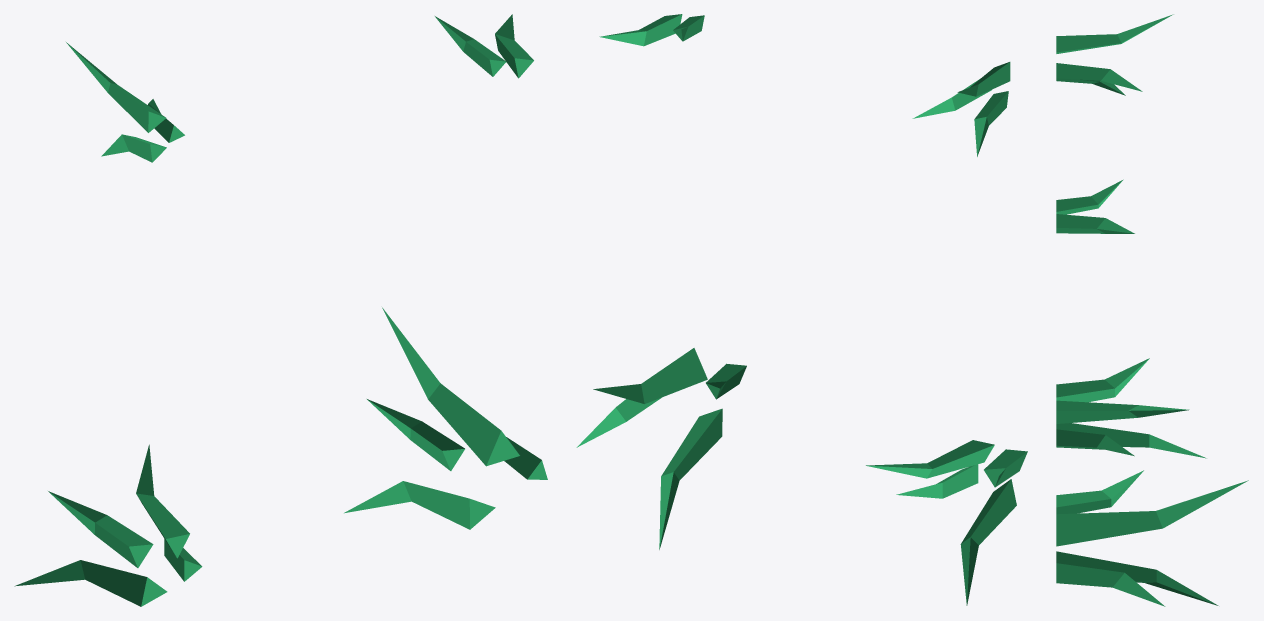
The model's file is low_poly_grass_pack.fbx.
3 renders of one model, left to right at view 1: azimuth 30°, elevation 25°; view 2: azimuth 150°, elevation 25°; view 3: azimuth 270°, elevation 25°, orthographic. The views are drawn at different scales.
Parts seen in each view (by area): view 1: imagetostl_mesh2, imagetostl_mesh3, imagetostl_mesh1, imagetostl_mesh0; view 2: imagetostl_mesh2, imagetostl_mesh3, imagetostl_mesh1, imagetostl_mesh0; view 3: imagetostl_mesh2, imagetostl_mesh3, imagetostl_mesh1, imagetostl_mesh0.
Part boxes in pixels (x1=…): imagetostl_mesh2: x1=344, y1=307, x2=547, y2=529; imagetostl_mesh3: x1=14, y1=444, x2=202, y2=606; imagetostl_mesh1: x1=66, y1=42, x2=184, y2=162; imagetostl_mesh0: x1=435, y1=14, x2=533, y2=78; imagetostl_mesh2: x1=576, y1=348, x2=746, y2=549; imagetostl_mesh3: x1=866, y1=440, x2=1027, y2=605; imagetostl_mesh1: x1=912, y1=62, x2=1010, y2=156; imagetostl_mesh0: x1=599, y1=14, x2=704, y2=46; imagetostl_mesh2: x1=1056, y1=470, x2=1248, y2=606; imagetostl_mesh3: x1=1056, y1=358, x2=1206, y2=458; imagetostl_mesh1: x1=1056, y1=14, x2=1173, y2=95; imagetostl_mesh0: x1=1056, y1=179, x2=1134, y2=233.
Size of the model in its own units: 14968 by 17504 by 6538.
